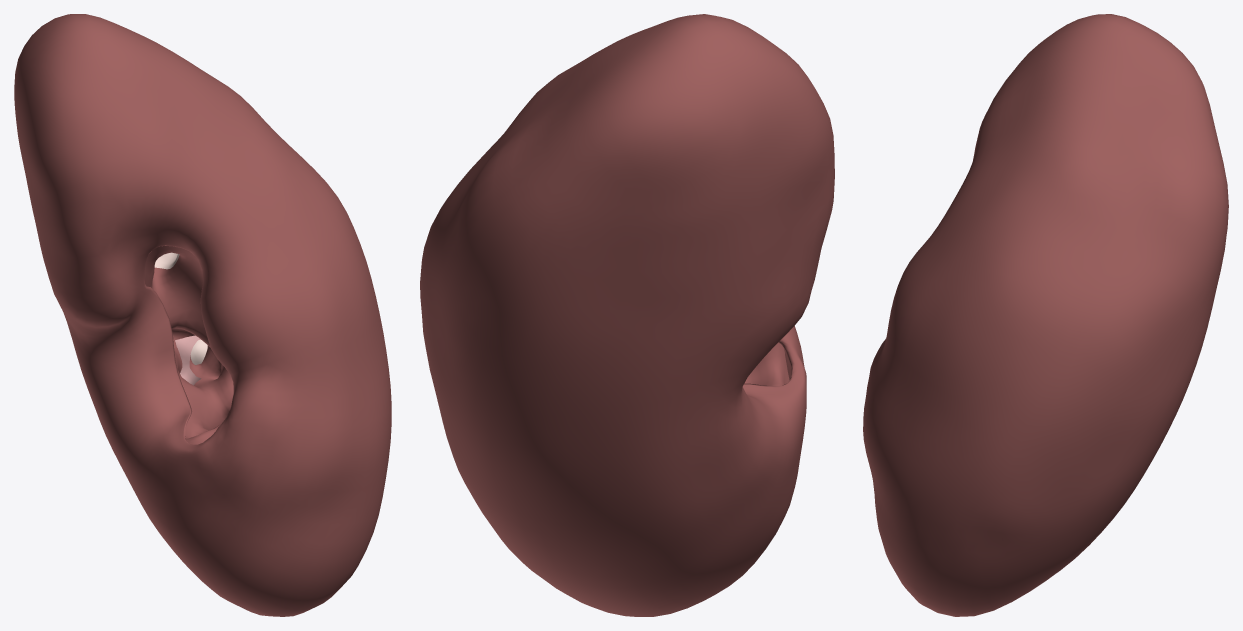
The model's file is VH_F_Kidney_L.glb.
3 views of the same model, side by side, from view 1: azimuth 30°, elevation 25°; view 2: azimuth 150°, elevation 25°; view 3: azimuth 270°, elevation 25° (orthographic). The views are drawn at different scales.
Visible parts, largest first — view 1: VH_F_kidney_capsule_L, VH_F_hilum_of_kidney_L, VH_F_renal_pyramid_L_g, VH_F_renal_column_L; view 2: VH_F_kidney_capsule_L, VH_F_hilum_of_kidney_L; view 3: VH_F_kidney_capsule_L.
Part boxes in pixels (left/top/right/bottom): VH_F_kidney_capsule_L: left=14, top=14, right=391, bottom=616; VH_F_hilum_of_kidney_L: left=144, top=246, right=233, bottom=444; VH_F_renal_pyramid_L_g: left=175, top=335, right=201, bottom=385; VH_F_renal_column_L: left=154, top=252, right=207, bottom=364; VH_F_kidney_capsule_L: left=420, top=14, right=834, bottom=616; VH_F_hilum_of_kidney_L: left=744, top=342, right=789, bottom=385; VH_F_kidney_capsule_L: left=863, top=14, right=1228, bottom=616.
Bounding box in the file's own units: 0.0731 × 0.1249 × 0.0776.
